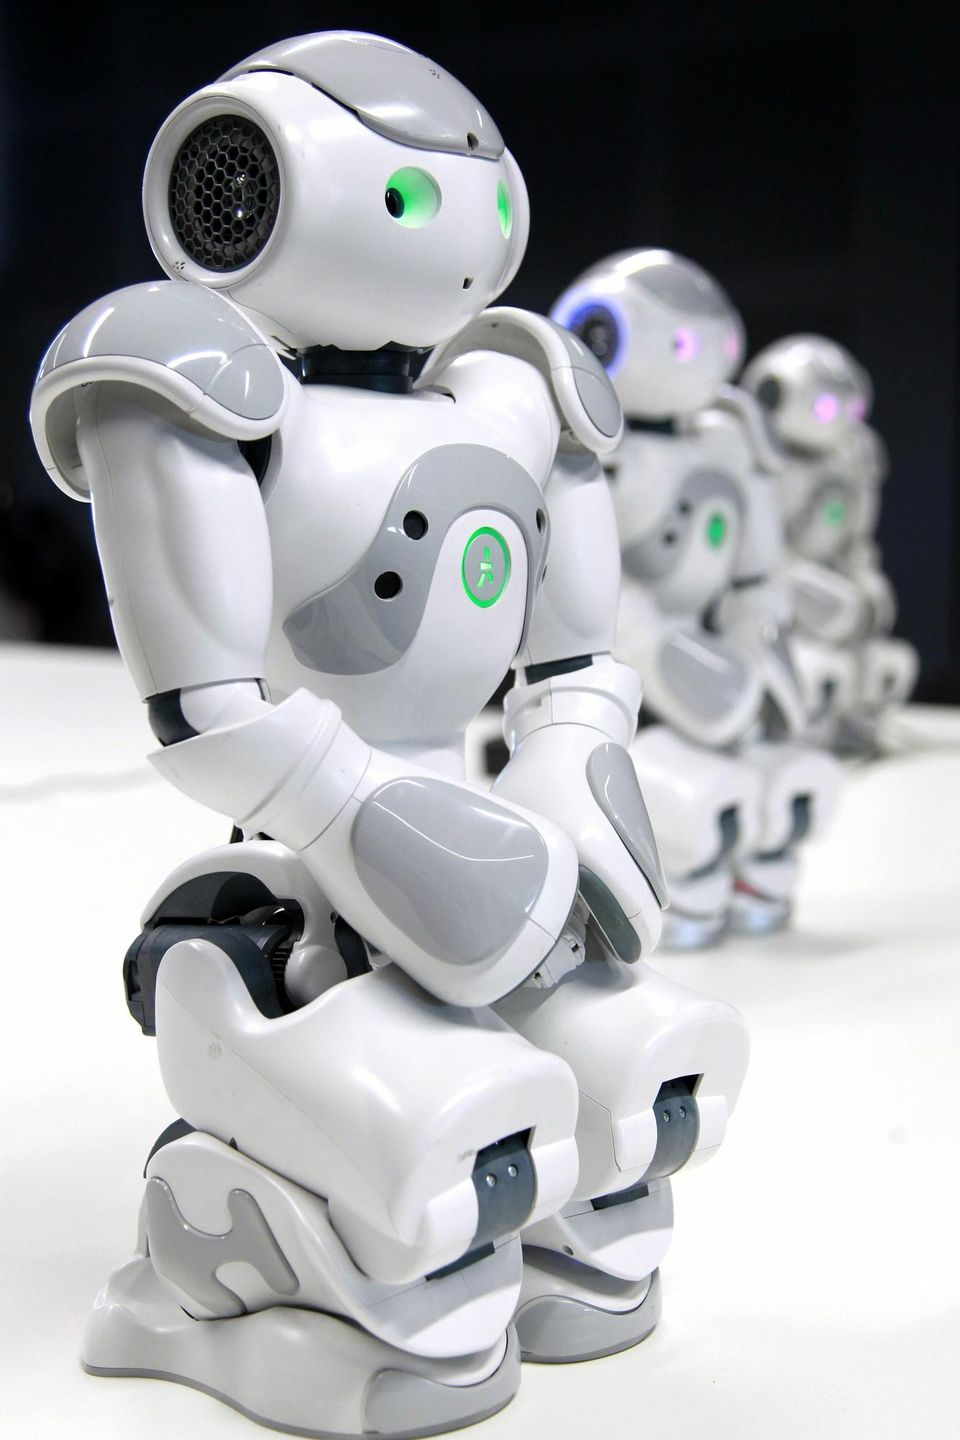nao: (32, 36, 752, 1440), (540, 187, 840, 1051), (710, 290, 934, 815)
